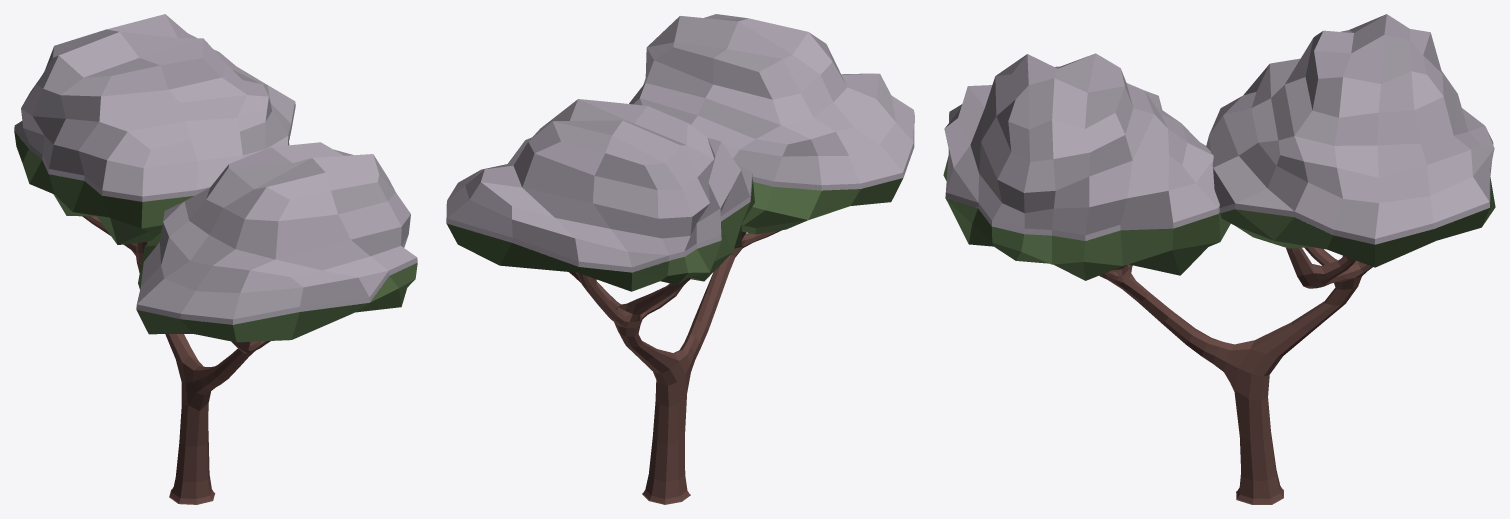
File: CommonTree_Snow_1.glb
The picture shows the model from 3 angles, left to right: view 1: azimuth 30°, elevation 25°; view 2: azimuth 150°, elevation 25°; view 3: azimuth 270°, elevation 25°; orthographic projection. The views are drawn at different scales.
Visible parts, largest first — view 1: CommonTree; view 2: CommonTree; view 3: CommonTree.
Part boxes in pixels (left/top/right/bottom): CommonTree: left=14, top=14, right=417, bottom=504; CommonTree: left=446, top=14, right=914, bottom=504; CommonTree: left=943, top=14, right=1495, bottom=504.
Size of the model in its own units: 1.89 by 2.51 by 2.77.
